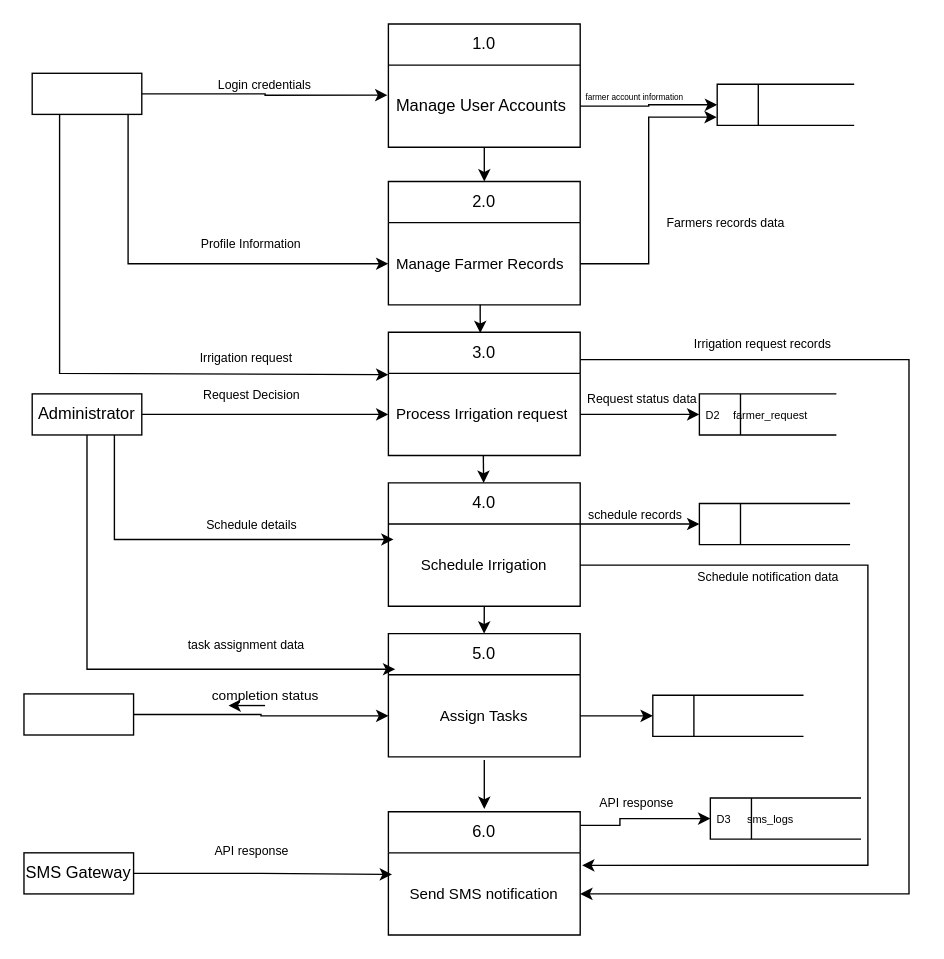
Image size: 944x959. Some labels were removed from this diagram. Each missing label, with the centre of its shape:
"D1 farmers" goes at (x=785, y=104).
"D3 irrigation_schedules" goes at (x=774, y=523).
"D3 tasks" goes at (x=727, y=715).
"Farmer" goes at (x=86, y=93).
"Irrigation Technician" goes at (x=78, y=714).
